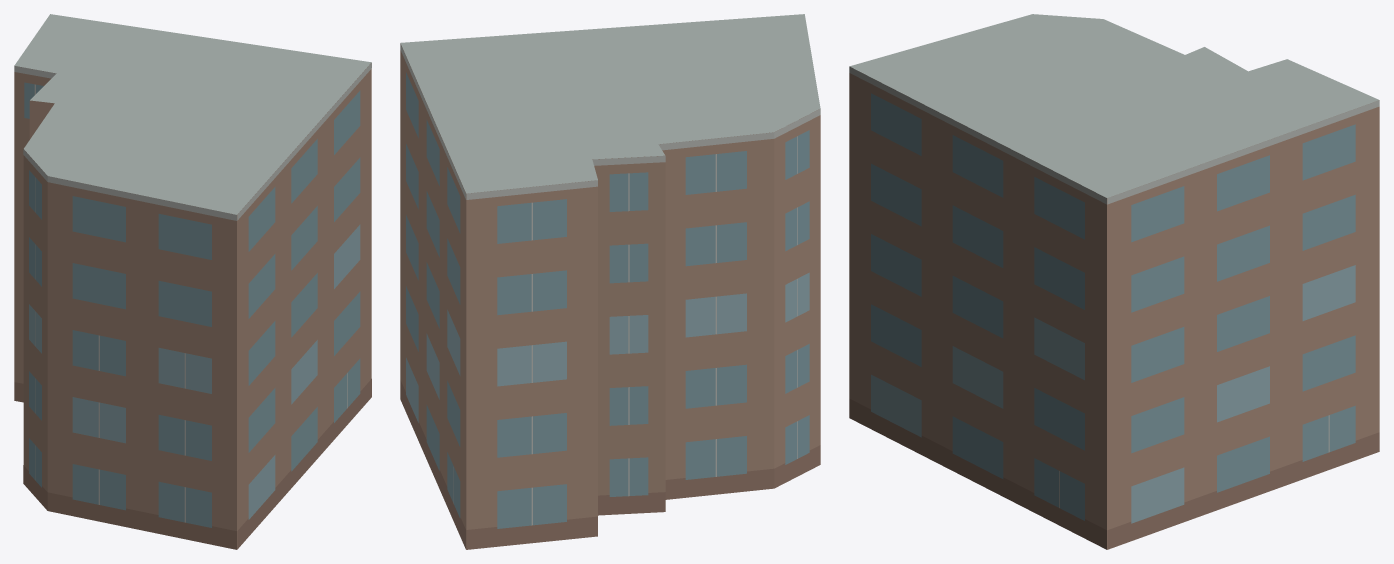
Rendered from survey-upis-32837543.glb.
The picture shows the model from 3 angles, left to right: view 1: azimuth 30°, elevation 25°; view 2: azimuth 150°, elevation 25°; view 3: azimuth 270°, elevation 25°; orthographic projection. The views are drawn at different scales.
Visible parts, largest first — view 1: survey-upis-32837543.tmp; view 2: survey-upis-32837543.tmp; view 3: survey-upis-32837543.tmp.
Boxes of the visible parts, x1,y1,x2,y2 form: survey-upis-32837543.tmp: [14, 14, 371, 549]; survey-upis-32837543.tmp: [400, 14, 820, 549]; survey-upis-32837543.tmp: [849, 14, 1379, 549].
Size of the model in its own units: 15.01 by 13.35 by 18.25.
